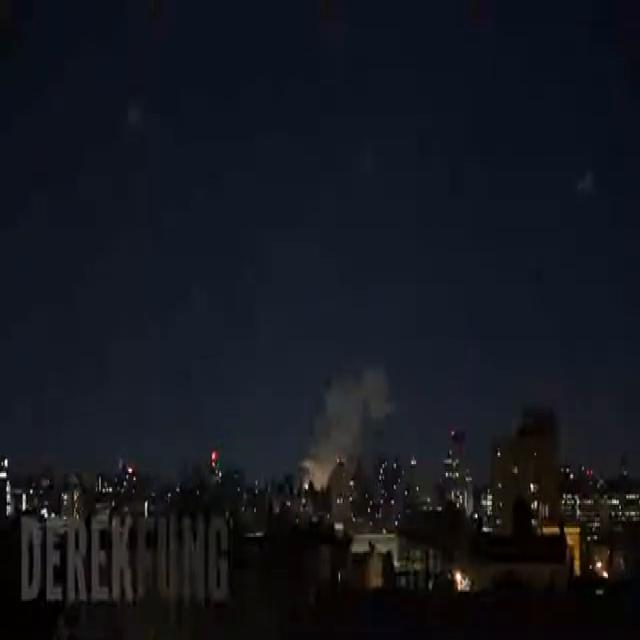smoke: (300, 366, 394, 485)
